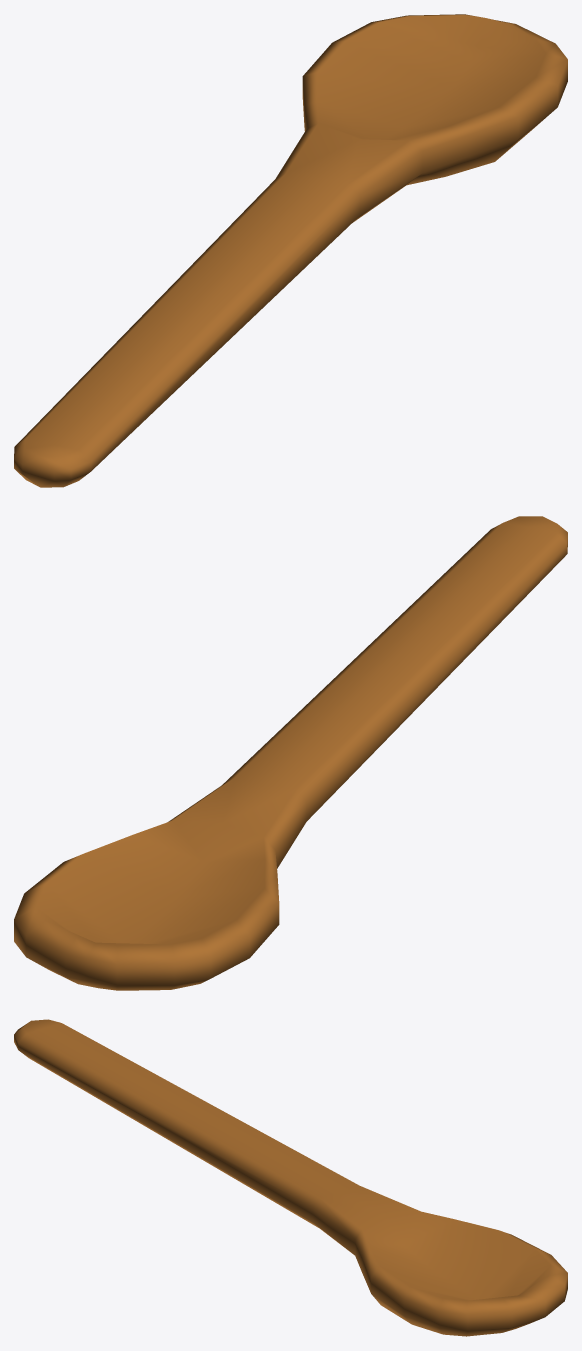
File: wood_spoon.fbx
The picture shows the model from 3 angles, top to bottom: view 1: azimuth 30°, elevation 25°; view 2: azimuth 210°, elevation 25°; view 3: azimuth 270°, elevation 25°; orthographic projection. The views are drawn at different scales.
Parts seen in each view (by area): view 1: Wood_Spoon; view 2: Wood_Spoon; view 3: Wood_Spoon.
Part boxes in pixels (box(x1,y1,x2,y2)): Wood_Spoon: box(14, 14, 567, 487); Wood_Spoon: box(14, 516, 567, 990); Wood_Spoon: box(14, 1019, 567, 1336).
Bounding box in the file's own units: 2.21 × 0.1761 × 1.74.
